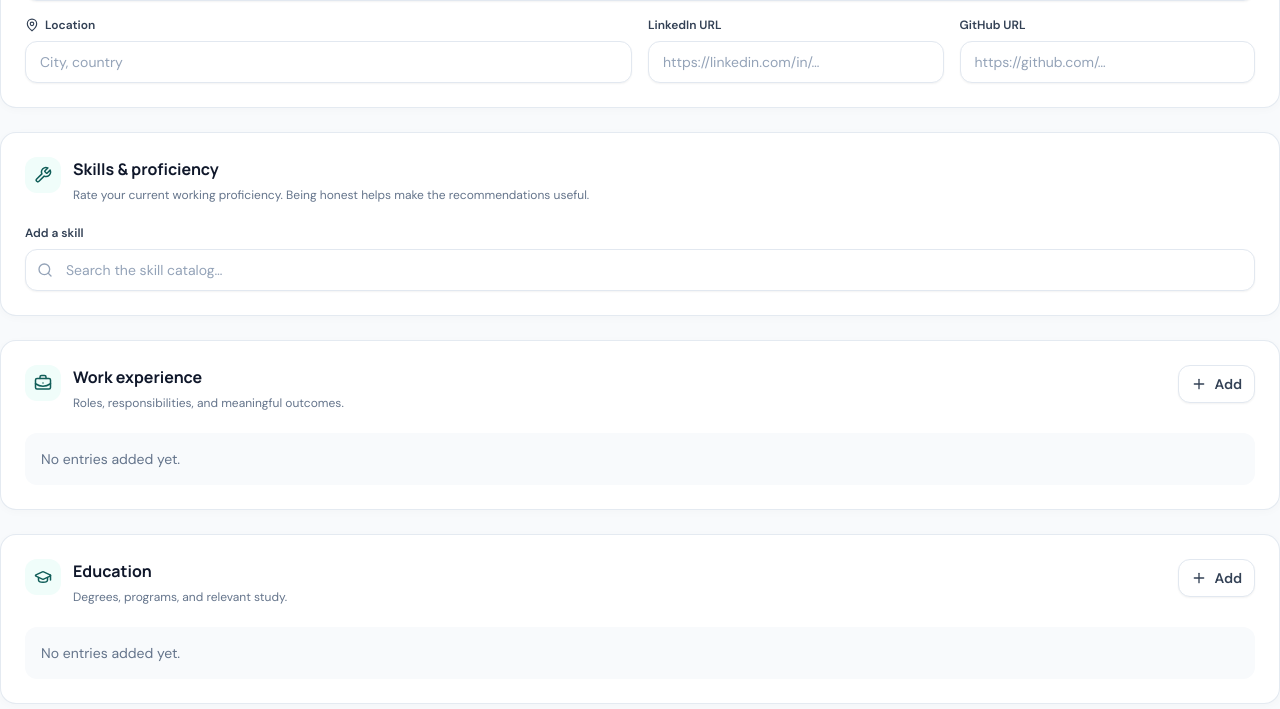
Test case: profile editing › creates a profile through the API and shows a success state
(page scrolled)
Step 1. Click the button "Add" in the row of "Work experience" → (1216, 384), box 1178,365 -> 1255,403
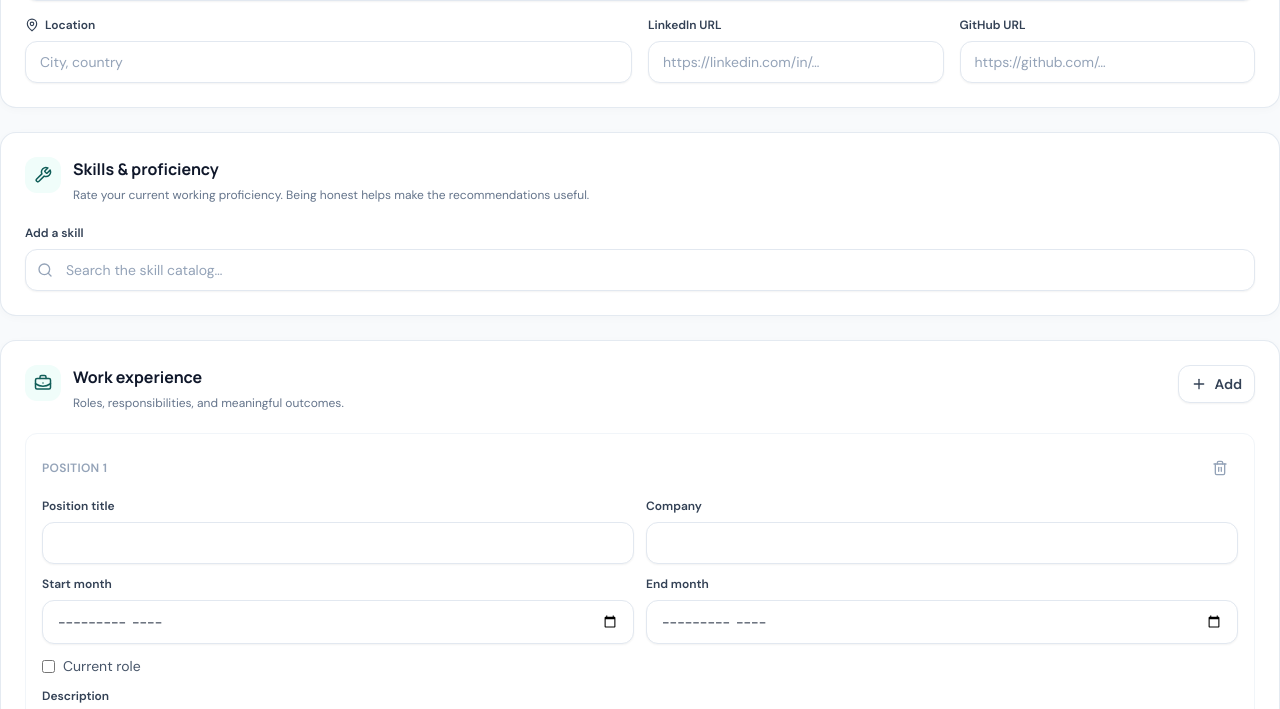
Step 2. Type "Analyst" into the field labelled "Position title" → (338, 543), box 42,522 -> 634,564
(page scrolled)
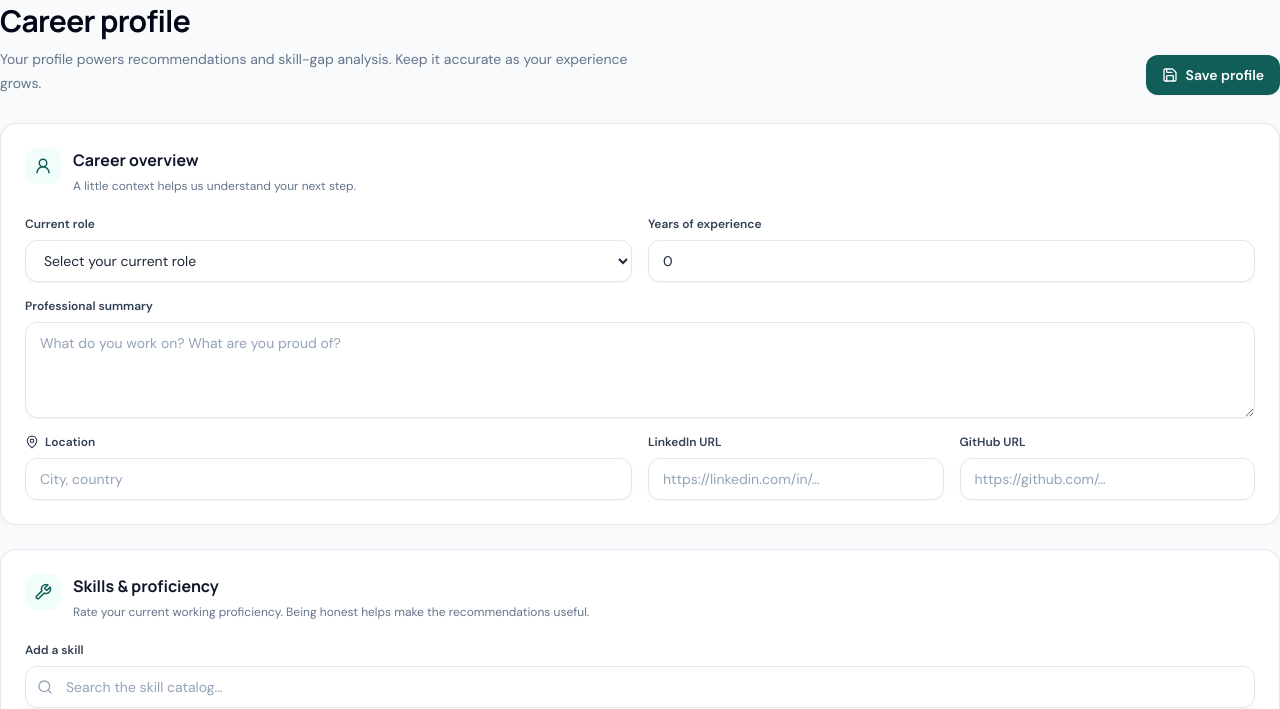
Step 3. Click the button "Save profile" → (1213, 75), box 1146,55 -> 1279,95
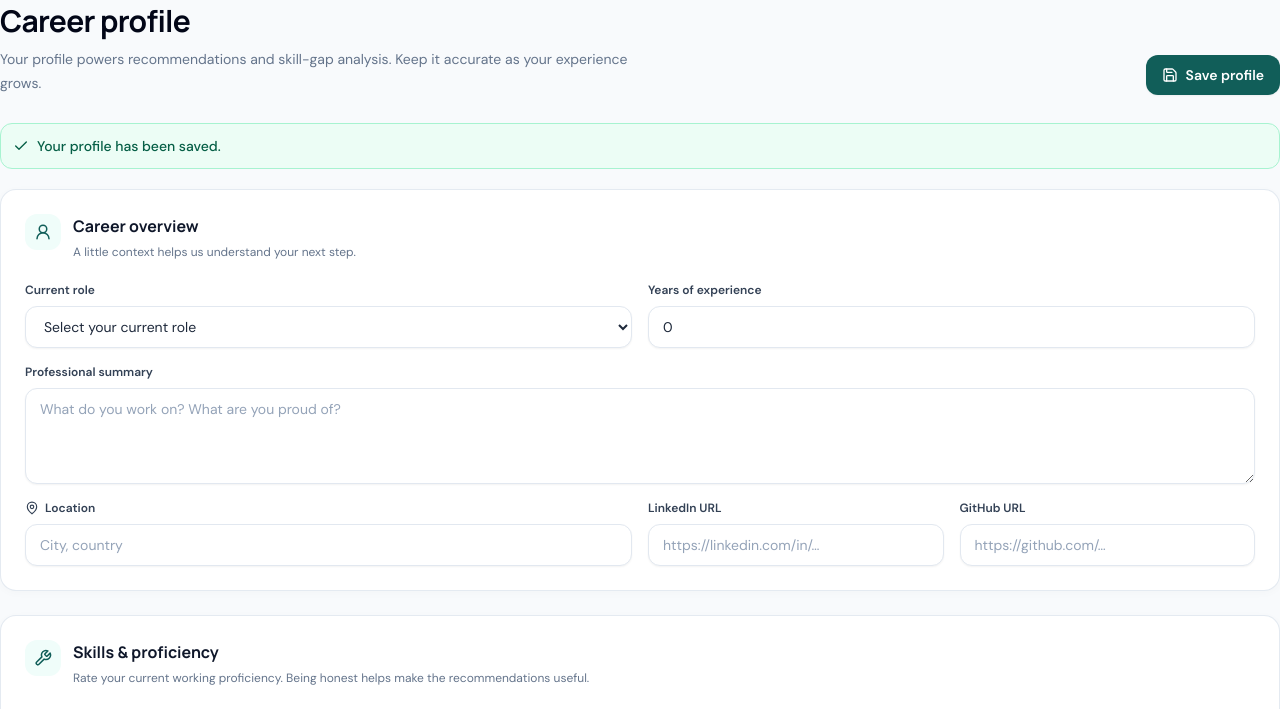
Expected: the message "Your profile has been saved." is shown, 0,123 -> 1279,169
Expected: the message shows "Your profile has been saved", 37,137 -> 221,155
